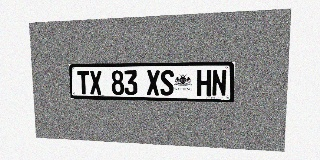3: (124, 70, 137, 95)
8: (111, 70, 124, 95)
H: (197, 70, 211, 96)
N: (211, 70, 227, 96)
S: (160, 70, 174, 96)
T: (77, 71, 90, 94)
X: (146, 70, 160, 95), (89, 70, 102, 95)
